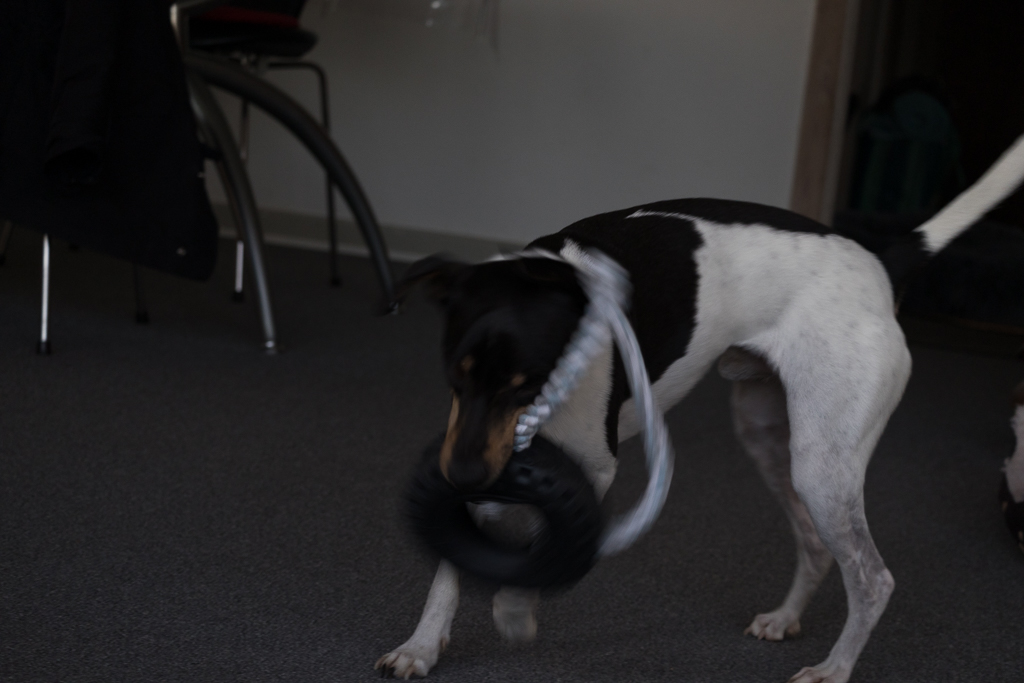Dog: (355, 123, 1024, 683)
